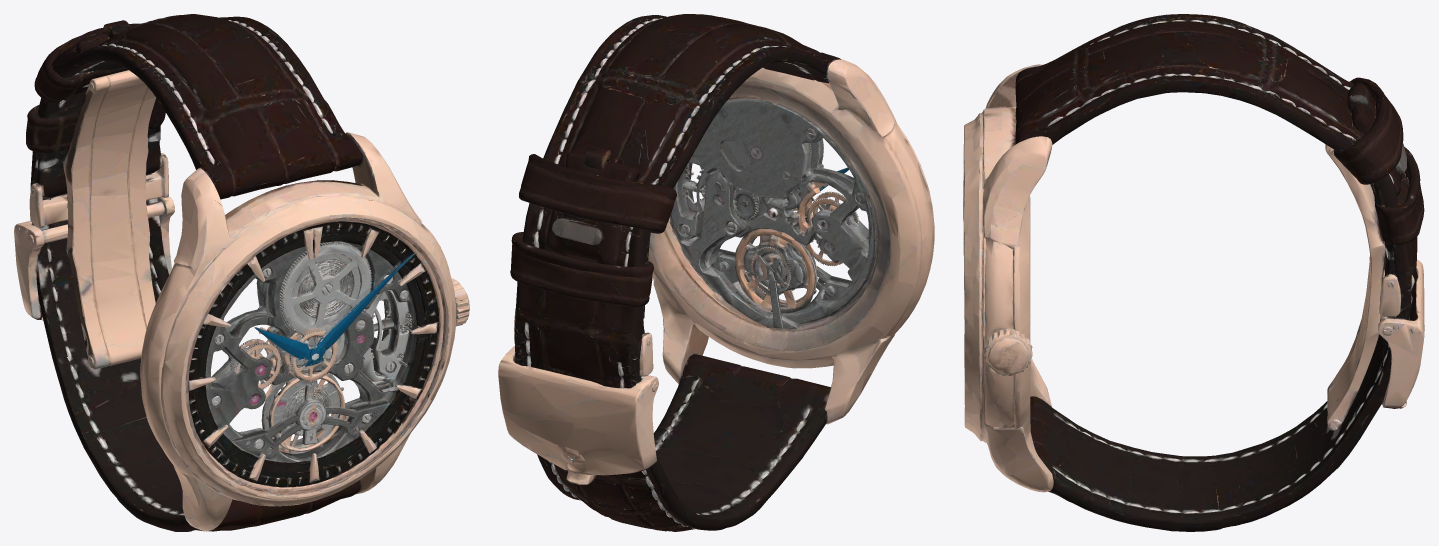
The model's file is watch-fast.glb.
The picture shows the model from 3 angles, left to right: view 1: azimuth 30°, elevation 25°; view 2: azimuth 150°, elevation 25°; view 3: azimuth 270°, elevation 25°; orthographic projection.
Visible parts, largest first — view 1: Mesh_0; view 2: Mesh_0; view 3: Mesh_0.
Part boxes in pixels (<box>): Mesh_0: <box>14,14,469,531</box>; Mesh_0: <box>498,14,934,531</box>; Mesh_0: <box>963,14,1424,531</box>.
Bounding box in the file's own units: 1.33 × 1.9 × 1.68.
Materials: 1 (1 with a texture image).
